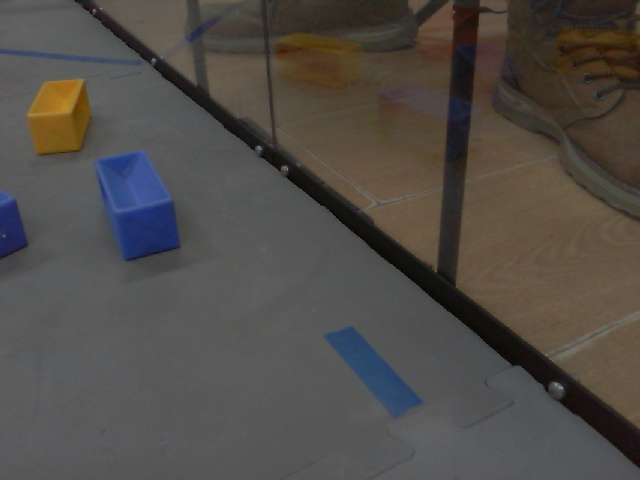BlueSample: (93, 146, 185, 262)
YellowSample: (23, 77, 92, 157)
